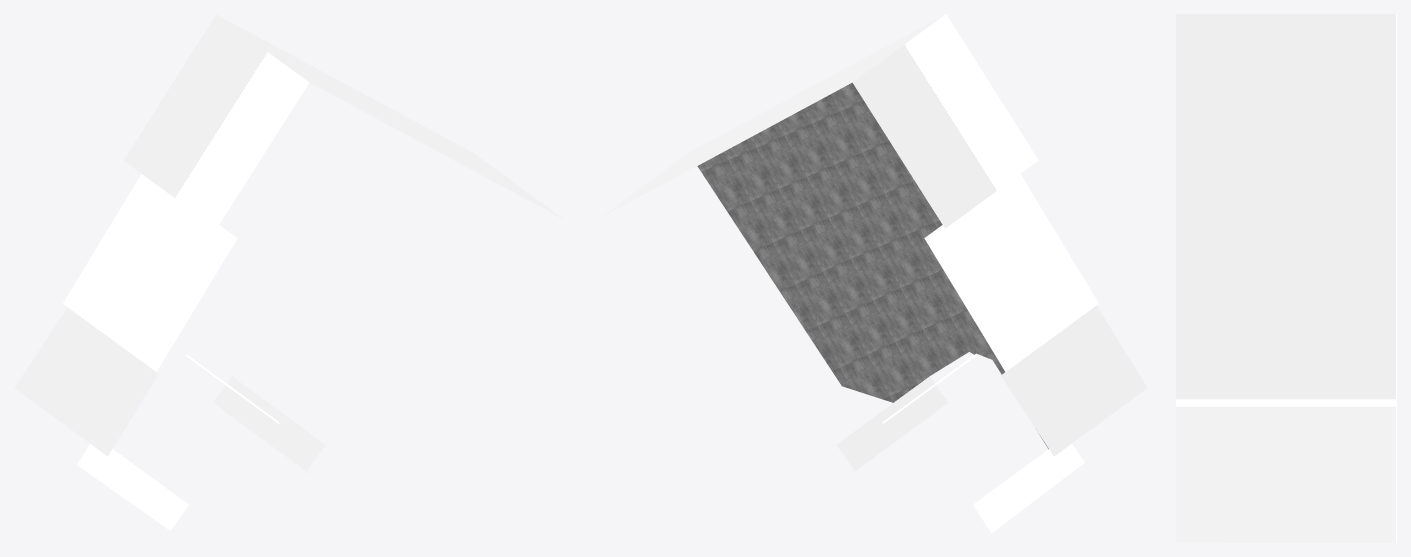
3 views of the same model, side by side, from view 1: azimuth 30°, elevation 25°; view 2: azimuth 150°, elevation 25°; view 3: azimuth 270°, elevation 25° (orthographic). The views are drawn at different scales.
Visible parts, largest first — view 1: BuildingMaster_1977194101384462011700000000_0; view 2: BuildingMaster_1977194101384462011700000000_0, BuildingMaster_1977194101384462011700000000_1; view 3: BuildingMaster_1977194101384462011700000000_0.
Boxes of the visible parts, bbox=[...] form: BuildingMaster_1977194101384462011700000000_0: bbox=[14, 14, 565, 530]; BuildingMaster_1977194101384462011700000000_0: bbox=[596, 14, 1147, 533]; BuildingMaster_1977194101384462011700000000_1: bbox=[697, 82, 1048, 449]; BuildingMaster_1977194101384462011700000000_0: bbox=[1176, 14, 1396, 542].
Bounding box in the file's own units: 49.5 × 44.5 × 17.5.
